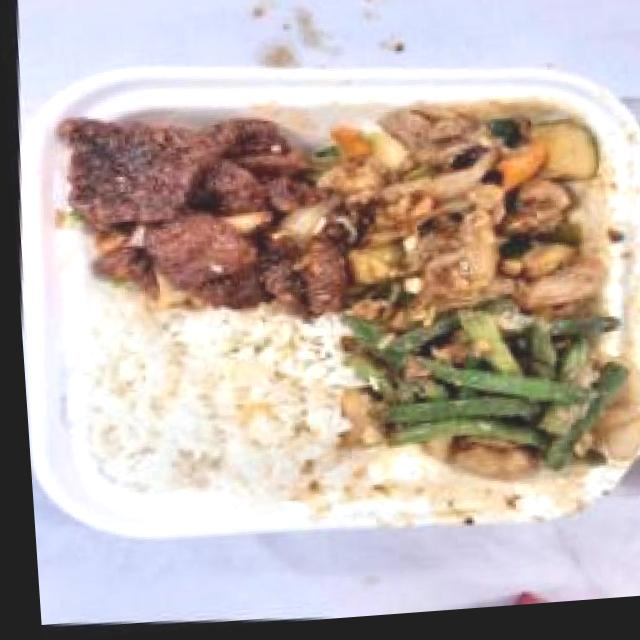Beijing Beef: (51, 96, 340, 325)
Kung Pao Chicken: (304, 89, 606, 329)
String Bean Chicken Breast: (345, 284, 640, 504)
White Steamed Rice: (64, 293, 359, 527)
